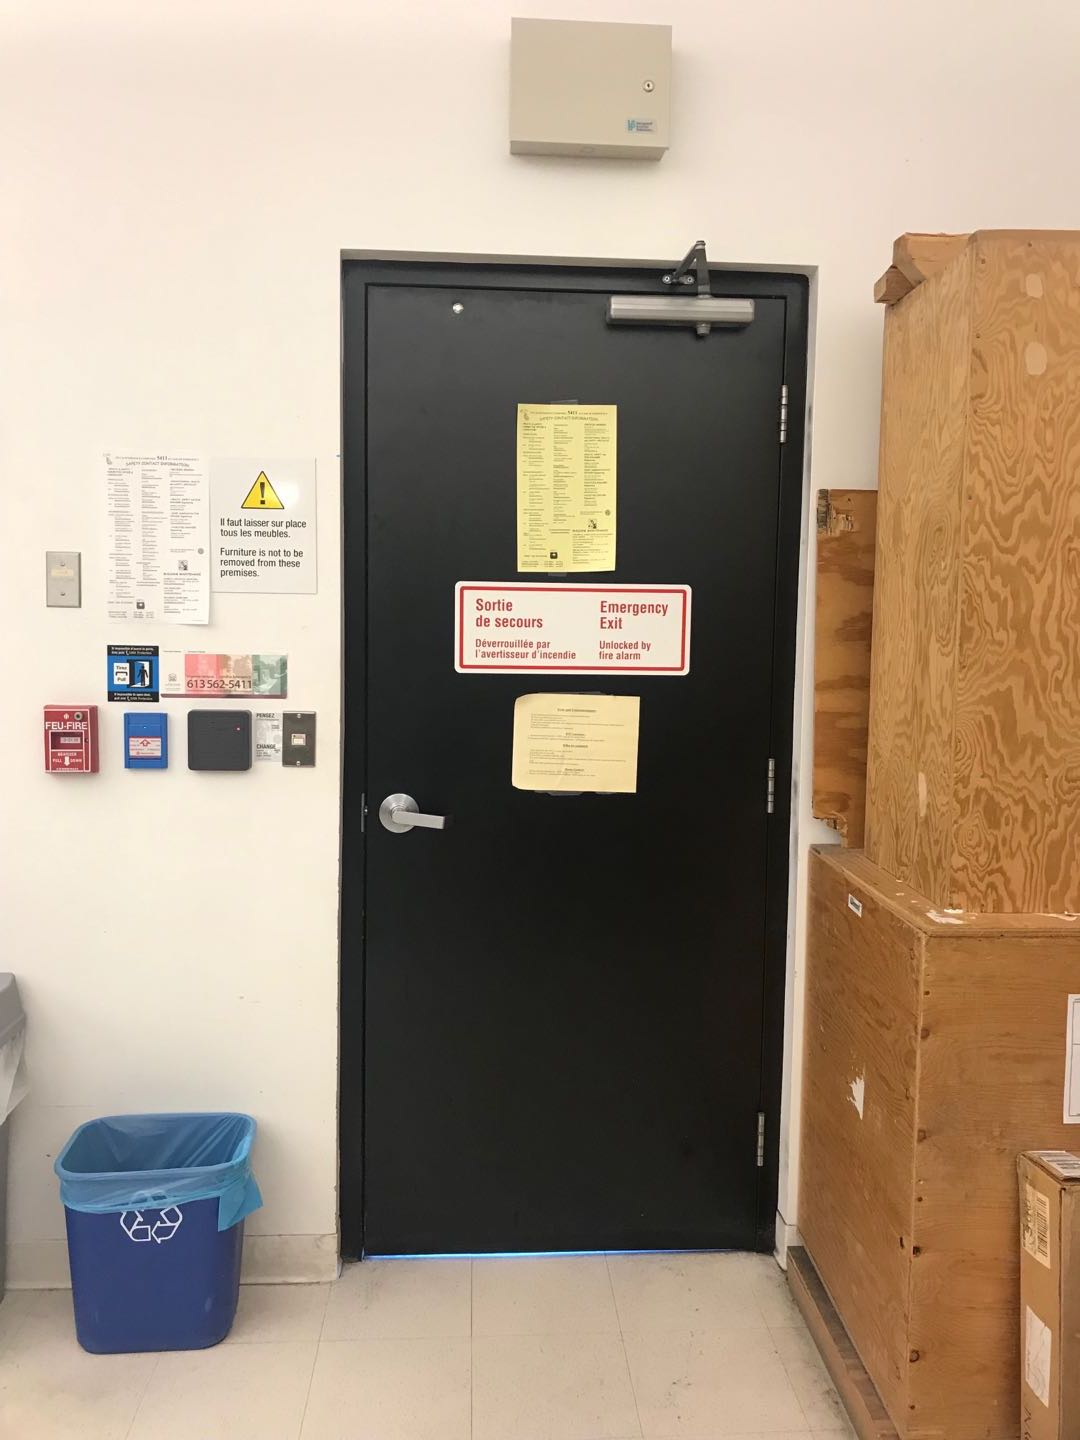door: (341, 248, 817, 1260)
sign: (455, 583, 692, 677), (206, 452, 319, 598), (104, 649, 161, 702)
